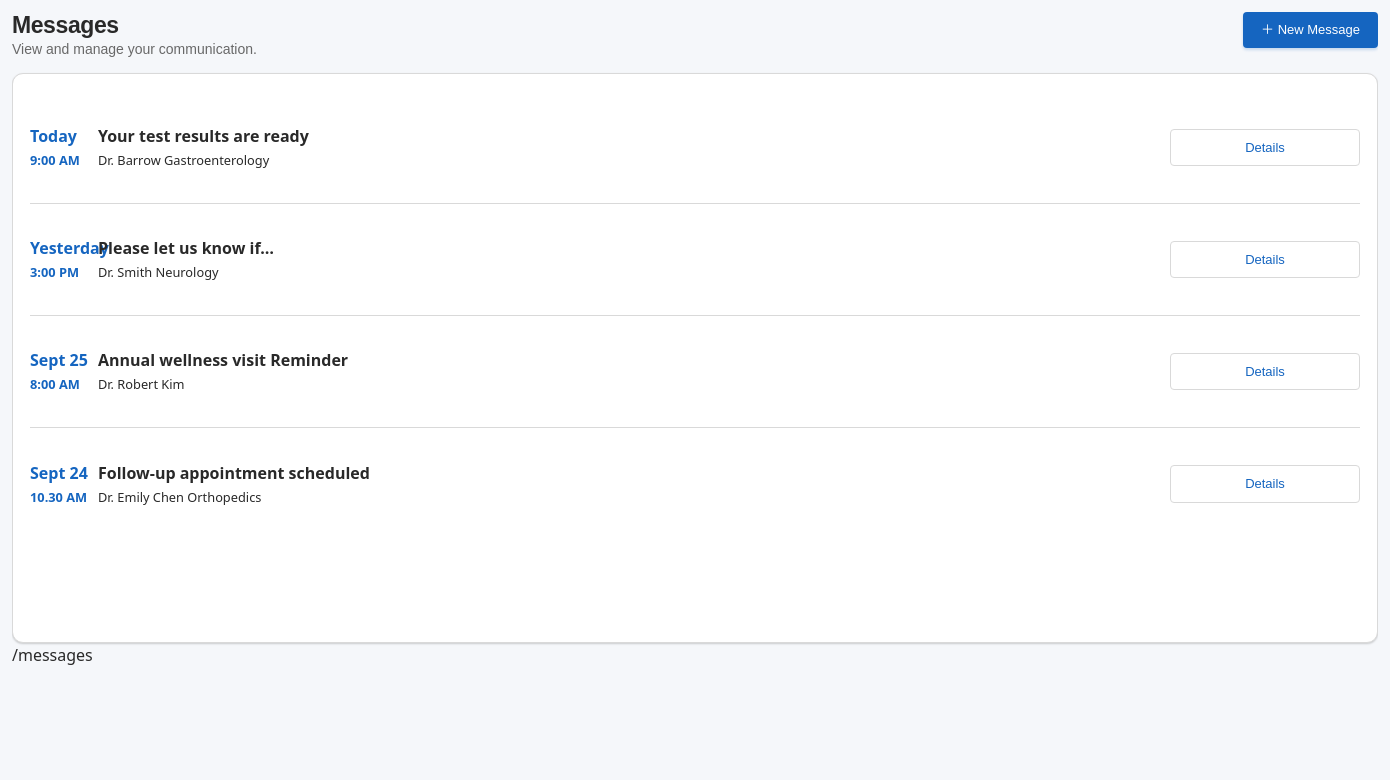
Test case: CareConnect Messages › navigates to the New Message screen
Click the button "＋ New Message" at (1310, 30), box [1243,12,1378,48]
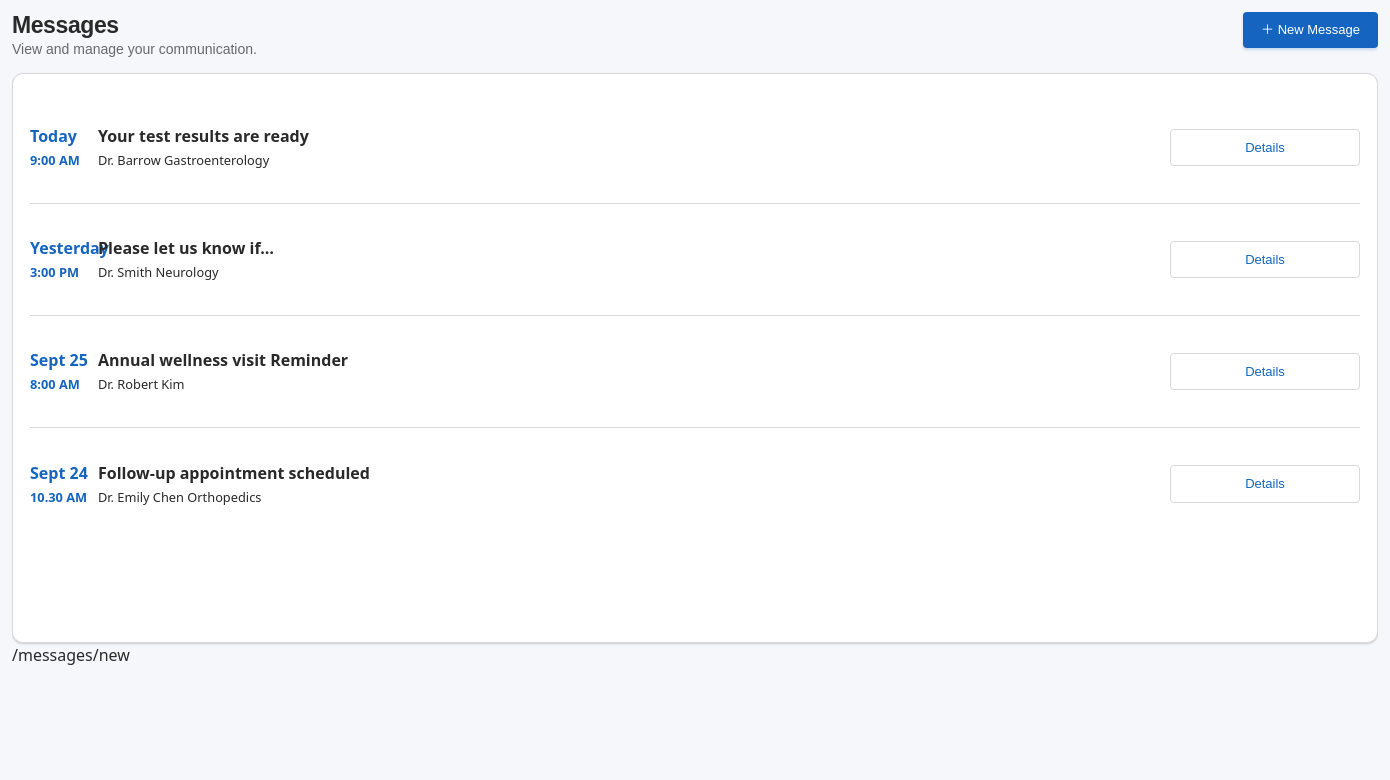
Check: the text with test id "current-path" reads "/messages/new", box [12,644,130,666]
